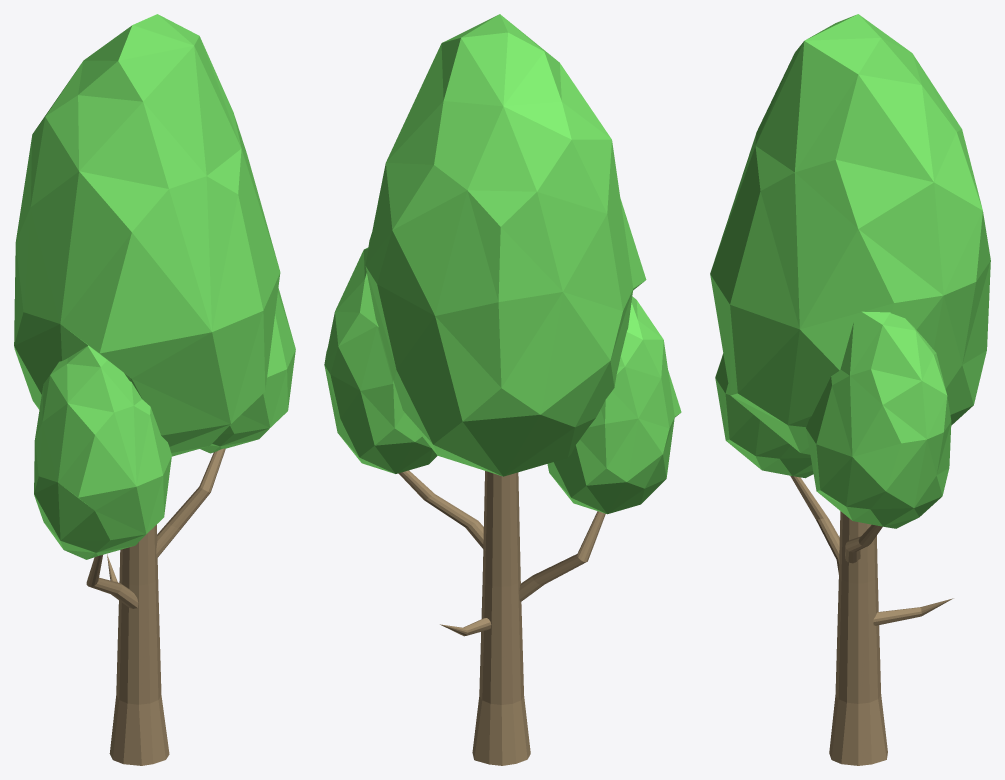
Rendered from tree 4.fbx.
3 renders of one model, left to right at view 1: azimuth 30°, elevation 25°; view 2: azimuth 150°, elevation 25°; view 3: azimuth 270°, elevation 25°, orthographic.
Visible parts, largest first — view 1: tree_011_green; view 2: tree_011_green; view 3: tree_011_green.
Part boxes in pixels (x1=…): tree_011_green: x1=14, y1=14, x2=295, y2=765; tree_011_green: x1=324, y1=14, x2=681, y2=765; tree_011_green: x1=710, y1=14, x2=990, y2=765.
Size of the model in its own units: 2.14 by 5.07 by 1.75.
